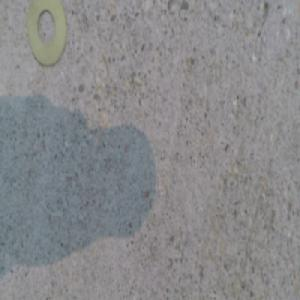Washer: (28, 0, 66, 67)
